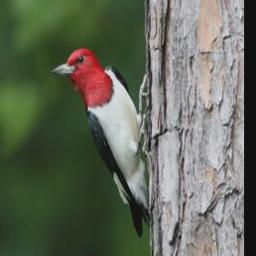Woodpecker: (48, 46, 155, 236)
